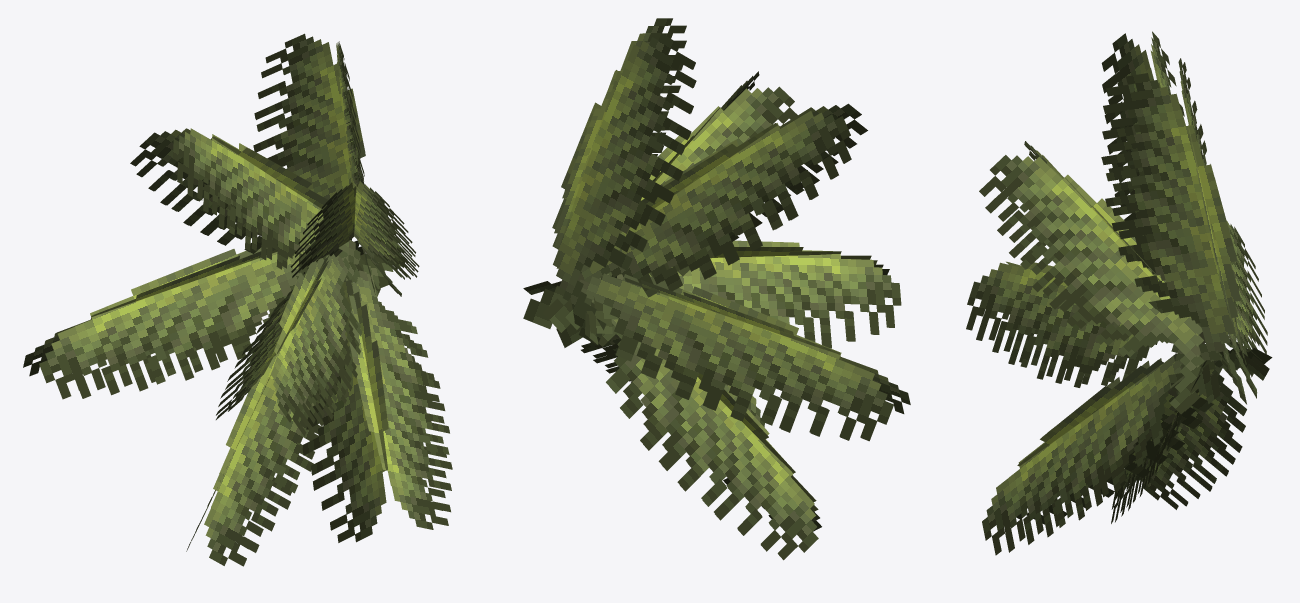
File: palm_leaves_1.obj
3 views of the same model, side by side, from view 1: azimuth 30°, elevation 25°; view 2: azimuth 150°, elevation 25°; view 3: azimuth 270°, elevation 25° (orthographic). The views are drawn at different scales.
Parts seen in each view (by area): view 1: Frond.010_Cube.005, Frond_Cube.005, Frond.017_Cube.005, Frond.002_Cube.005, Frond.021_Cube.006, Frond.009_Cube.005, Frond.018_Cube.005; view 2: Frond_Cube.005, Frond.021_Cube.006, Frond.017_Cube.005, Frond.009_Cube.005, Frond.002_Cube.005, Frond.018_Cube.005, Frond.010_Cube.005; view 3: Frond.021_Cube.006, Frond.018_Cube.005, Frond.010_Cube.005, Frond.002_Cube.005, Frond.009_Cube.005, Frond.017_Cube.005, Frond_Cube.005.
Part boxes in pixels (x1,y1,x2,y2): Frond.010_Cube.005: [302, 254, 452, 542]; Frond_Cube.005: [23, 239, 388, 399]; Frond.017_Cube.005: [130, 128, 364, 275]; Frond.002_Cube.005: [216, 254, 380, 436]; Frond.021_Cube.006: [253, 33, 375, 294]; Frond.009_Cube.005: [186, 270, 384, 566]; Frond.018_Cube.005: [290, 181, 419, 296]; Frond_Cube.005: [523, 273, 910, 441]; Frond.021_Cube.006: [552, 18, 696, 345]; Frond.017_Cube.005: [556, 103, 867, 347]; Frond.009_Cube.005: [543, 298, 821, 560]; Frond.002_Cube.005: [586, 240, 901, 348]; Frond.018_Cube.005: [580, 71, 797, 346]; Frond.010_Cube.005: [523, 281, 764, 427]; Frond.021_Cube.006: [1101, 58, 1253, 391]; Frond.018_Cube.005: [979, 141, 1232, 414]; Frond.010_Cube.005: [982, 348, 1272, 555]; Frond.002_Cube.005: [966, 261, 1261, 394]; Frond.009_Cube.005: [1111, 350, 1269, 523]; Frond.017_Cube.005: [1101, 31, 1246, 404]; Frond_Cube.005: [1175, 221, 1267, 398].
Size of the model in its own units: 3.41 by 4.37 by 2.45.
